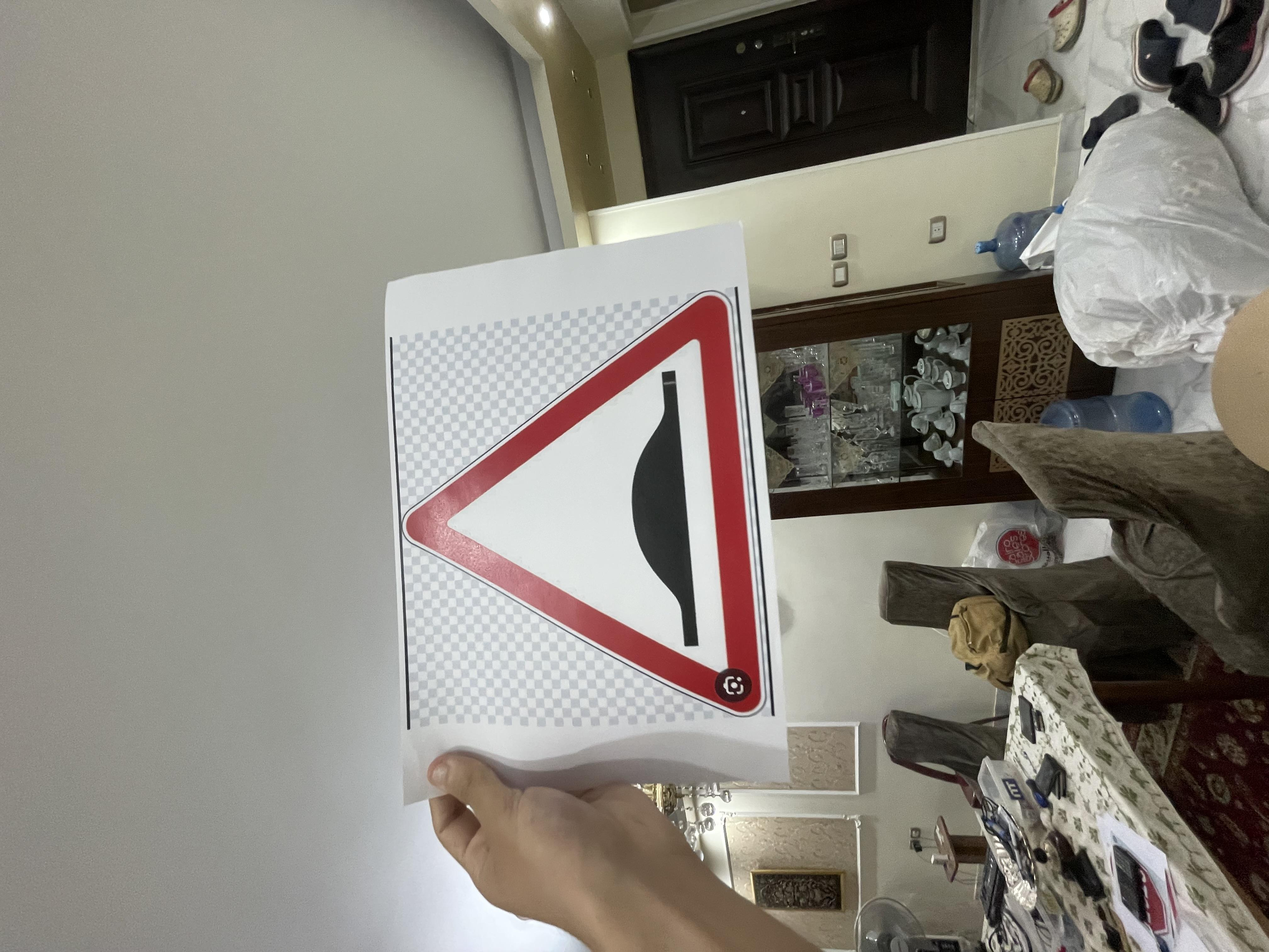Hump: (304, 303, 890, 581)
